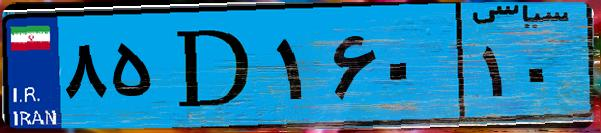0: (385, 28, 445, 110), (525, 38, 570, 115)
1: (270, 28, 330, 110), (475, 38, 525, 113)
5: (110, 28, 158, 98)
6: (330, 28, 385, 110)
8: (57, 26, 110, 100)
D: (158, 12, 270, 120)
